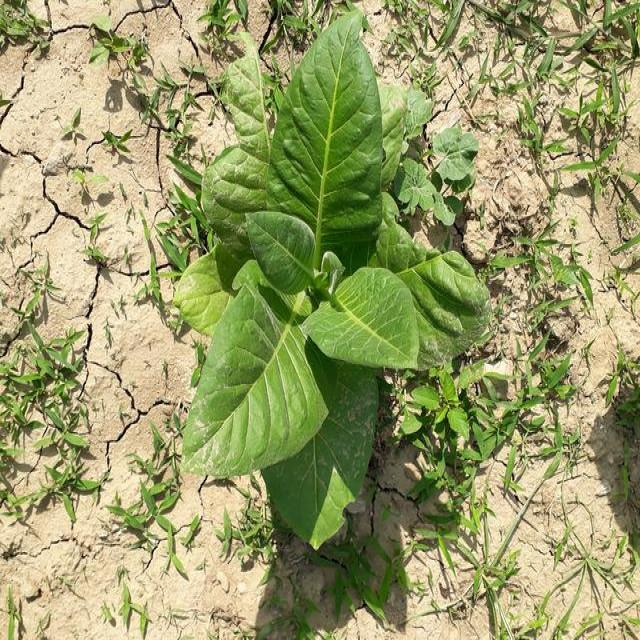crop: (178, 3, 485, 566)
